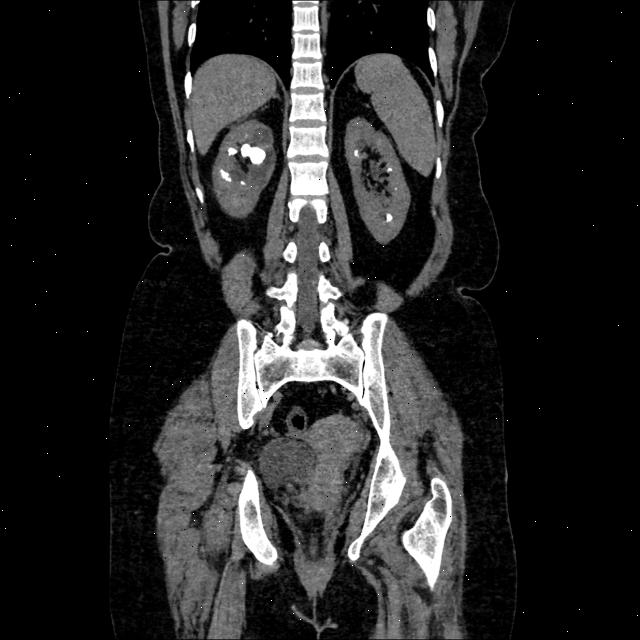kidneystone: (240, 144, 266, 164), (220, 168, 231, 182), (228, 147, 238, 156), (385, 213, 392, 221), (354, 150, 359, 157), (388, 167, 390, 172)
